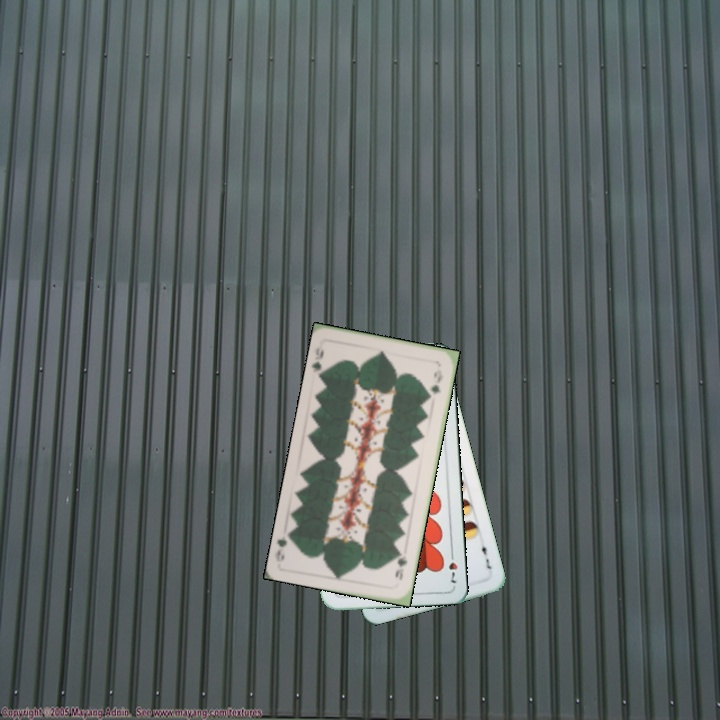E7: (477, 537, 494, 572)
G9: (308, 344, 328, 380), (391, 547, 410, 583)
H7: (445, 547, 460, 587)
